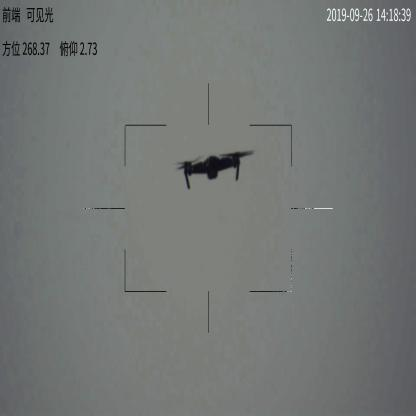uav: (172, 146, 254, 190)
